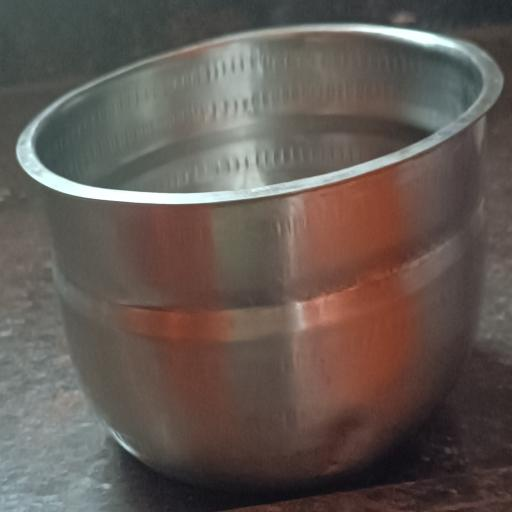vessel: (18, 25, 502, 486)
